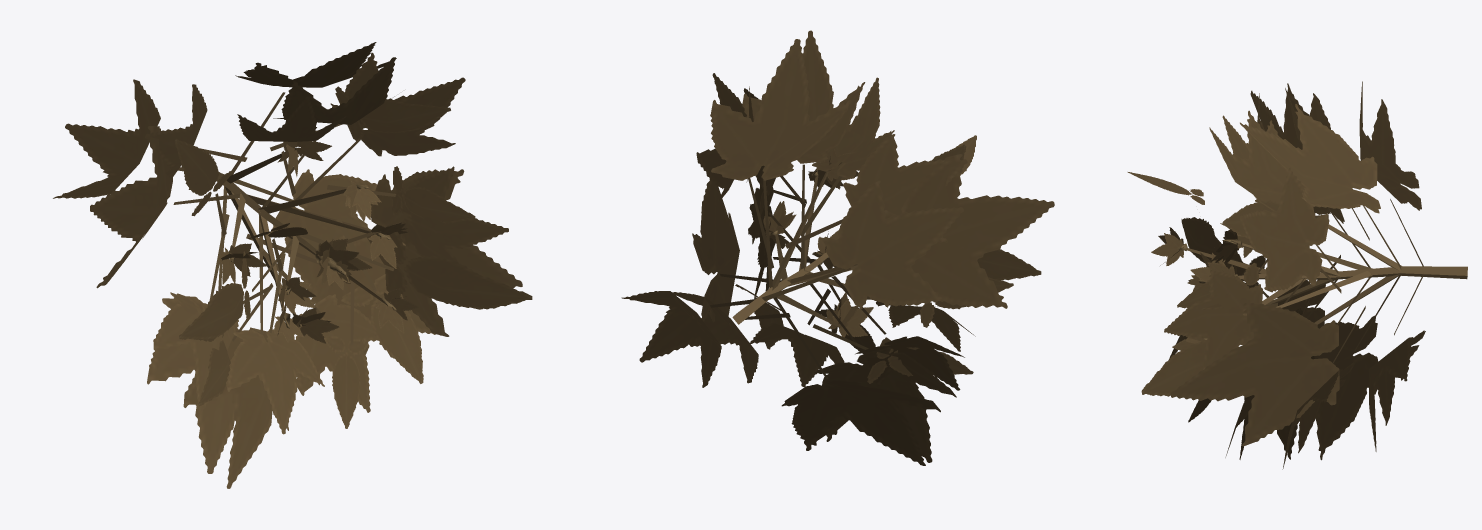
The model's file is p_afghan_preflower_c3_cards.obj.
3 renders of one model, left to right at view 1: azimuth 30°, elevation 25°; view 2: azimuth 150°, elevation 25°; view 3: azimuth 270°, elevation 25°, orthographic. The views are drawn at different scales.
Bounding box in the file's own units: 1.56 × 1.61 × 1.06.
Materials: 1 (1 with a texture image).
